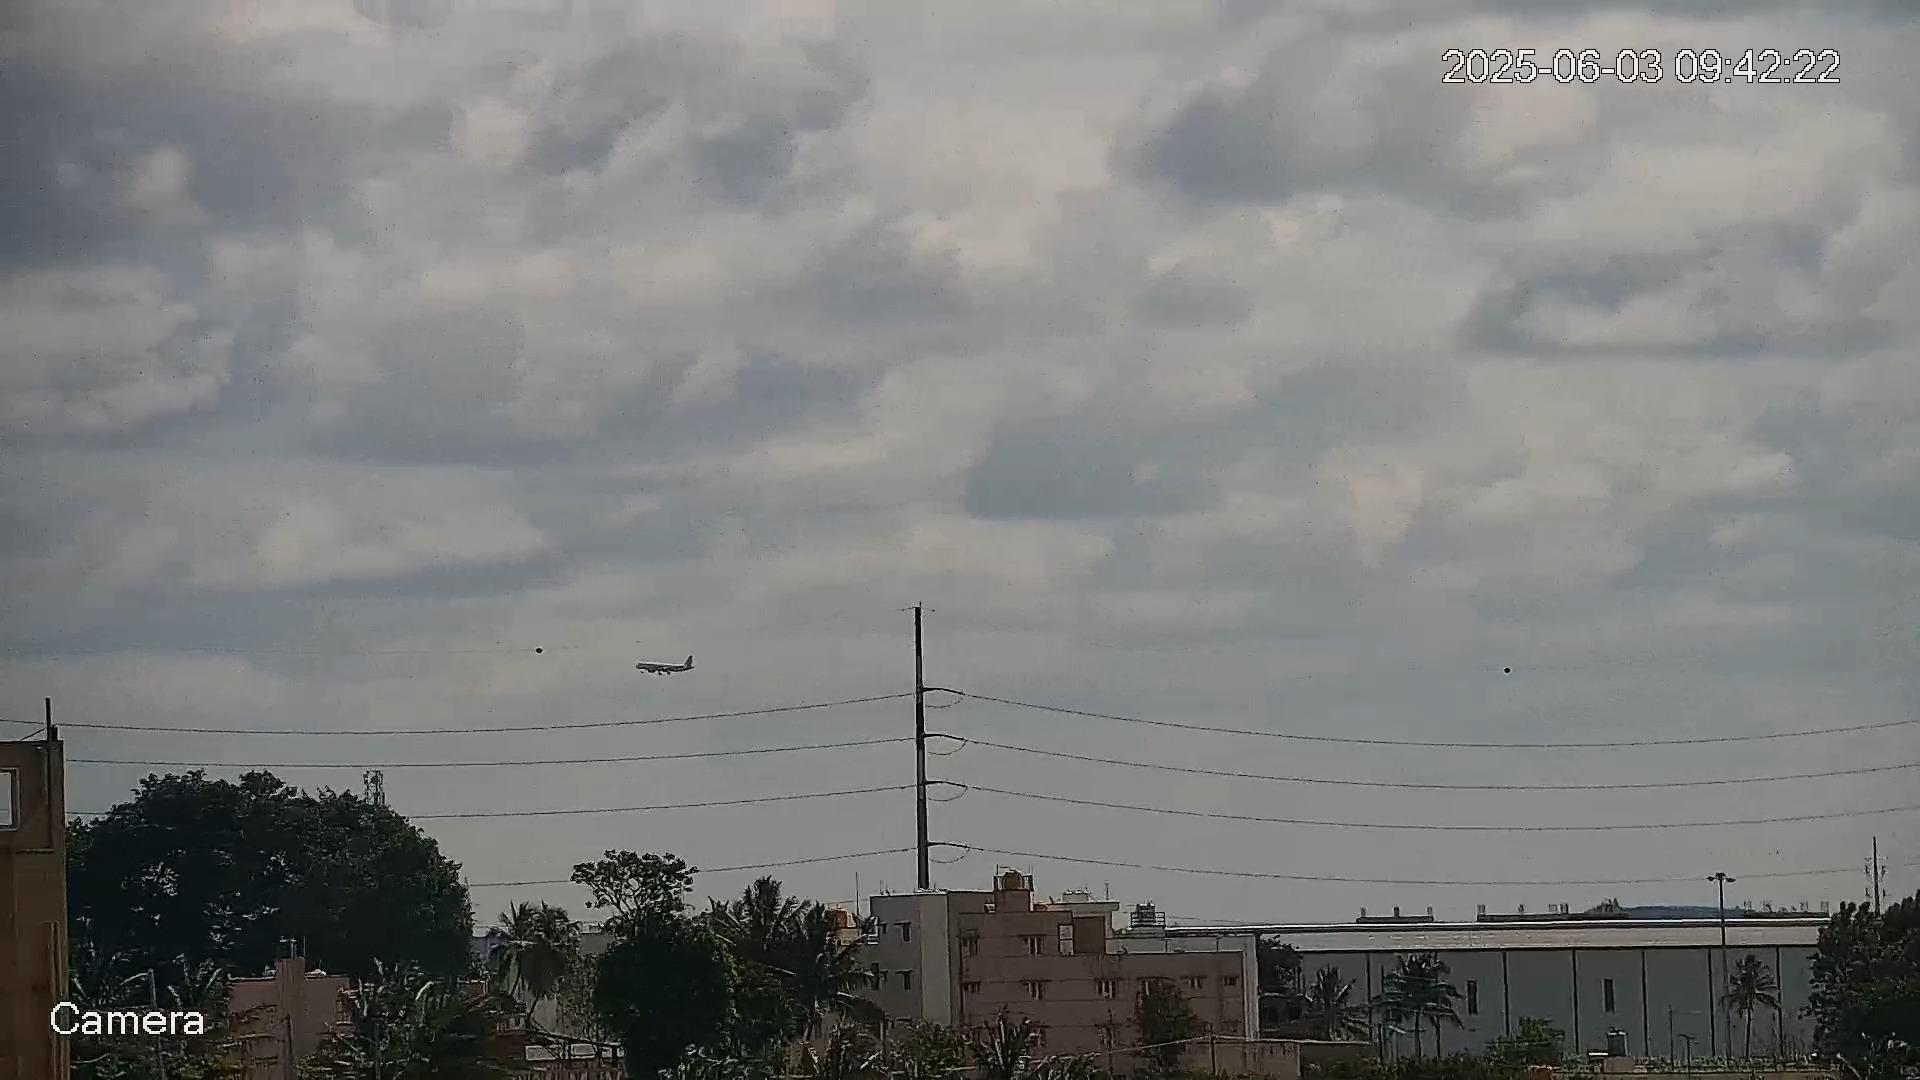Aircraft: (634, 650, 700, 679)
